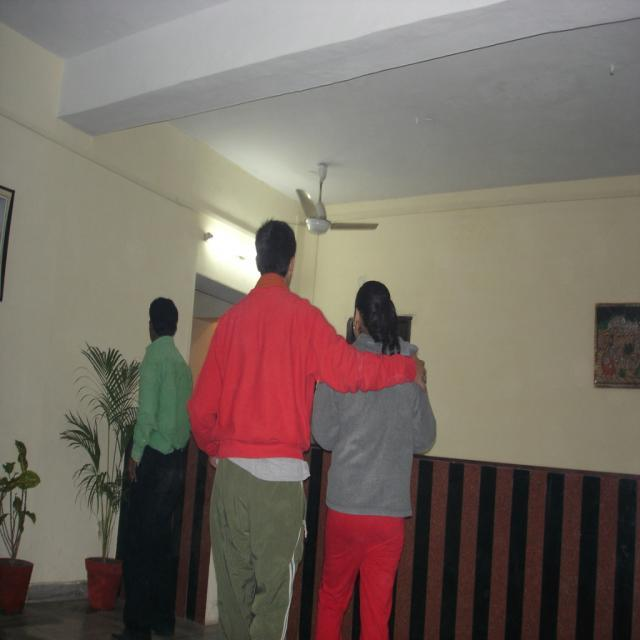fan_off: (287, 164, 382, 235)
